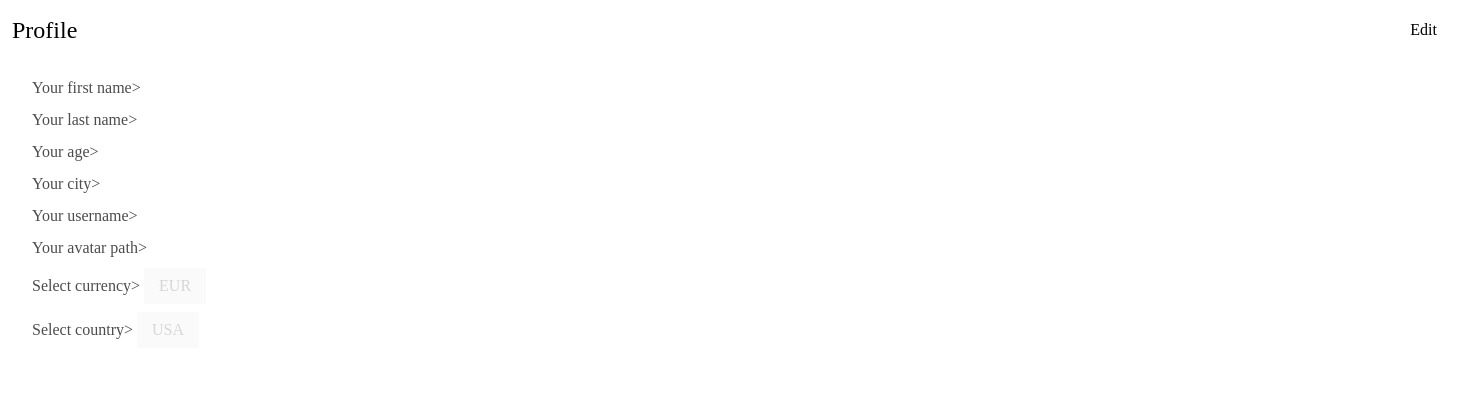
features/EditableProfileCard › validation
Click the button with test id "EditableProfileCardHeader.EditButton" at point(1424, 30), box [1395,12,1452,48]
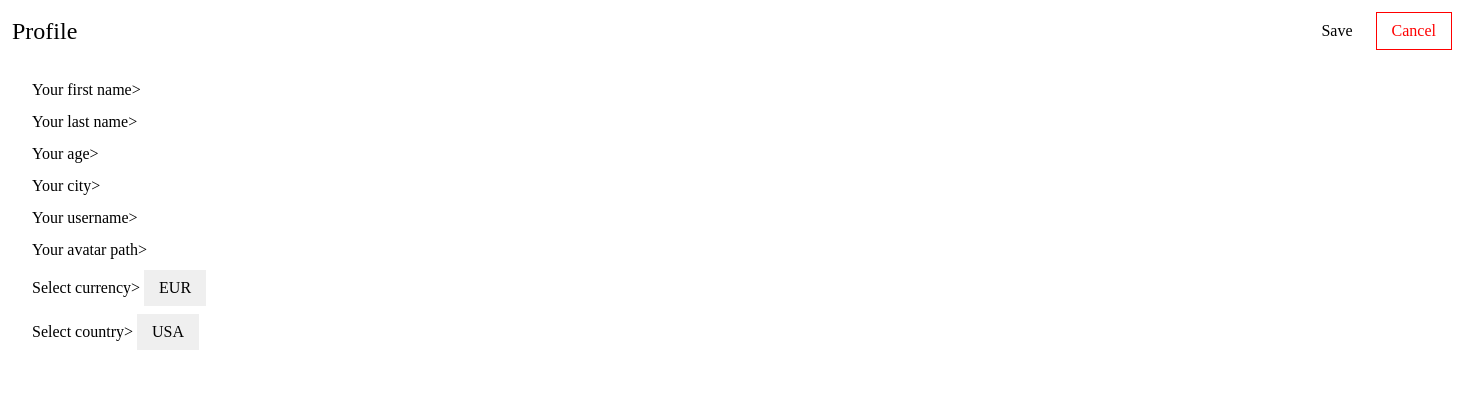
Click the button with test id "EditableProfileCardHeader.SaveButton" at point(1337, 31), box [1306,13,1368,49]
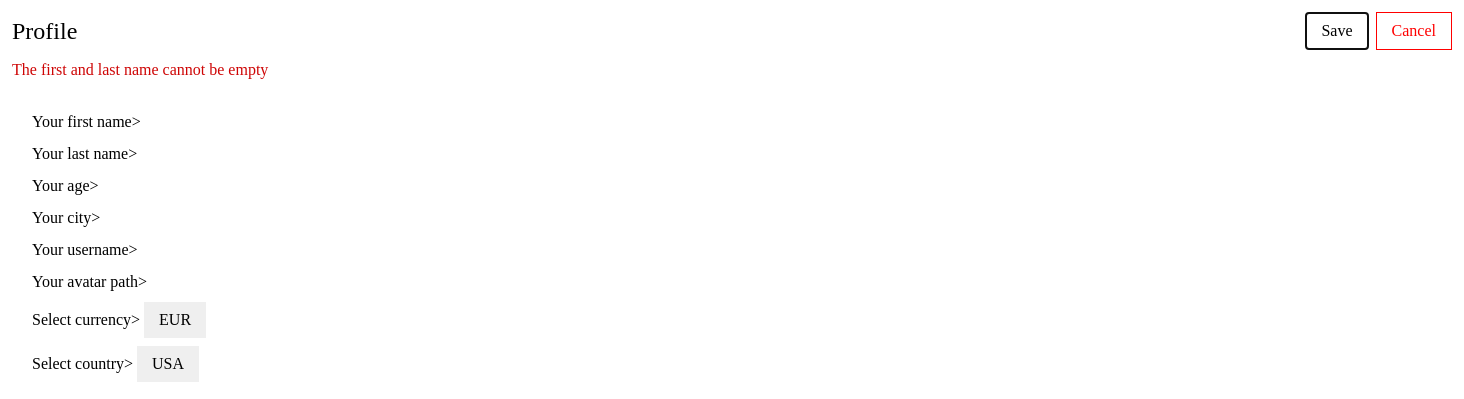
Check: the text "The first and last name cannot be empty" is shown, box [12,58,268,82]
